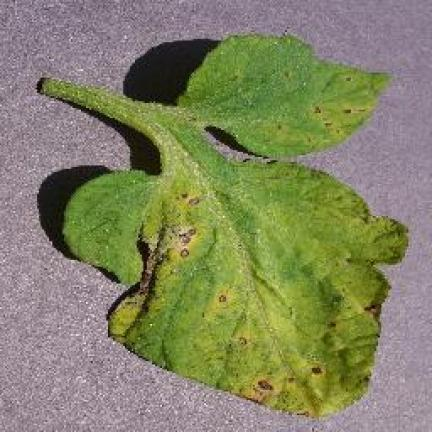disease: (38, 32, 408, 419)
leaf: (223, 216, 406, 420), (106, 187, 210, 372), (201, 278, 233, 321), (225, 324, 259, 355), (231, 74, 240, 79)
